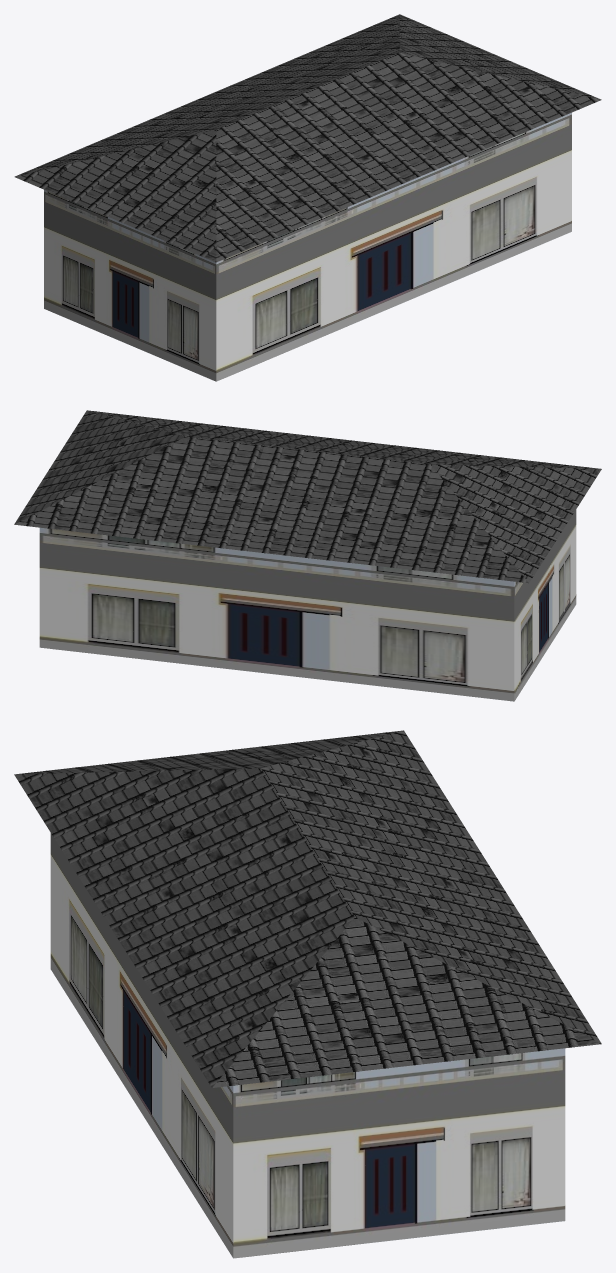
3 renders of one model, top to bottom at view 1: azimuth 30°, elevation 25°; view 2: azimuth 150°, elevation 25°; view 3: azimuth 270°, elevation 25°, orthographic. The views are drawn at different scales.
Parts seen in each view (by area): view 1: CityEngineMaterial_8_m, CityEngineMaterial_7_m; view 2: CityEngineMaterial_8_m, CityEngineMaterial_7_m; view 3: CityEngineMaterial_8_m, CityEngineMaterial_7_m.
Boxes of the visible parts, x1,y1,x2,y2 form: CityEngineMaterial_8_m: (14,14,601,262); CityEngineMaterial_7_m: (44,112,571,381); CityEngineMaterial_8_m: (14,410,601,583); CityEngineMaterial_7_m: (39,510,576,701); CityEngineMaterial_8_m: (14,730,601,1087); CityEngineMaterial_7_m: (50,833,565,1258).
Bounding box in the file's own units: 26.48 × 8.72 × 18.4.
